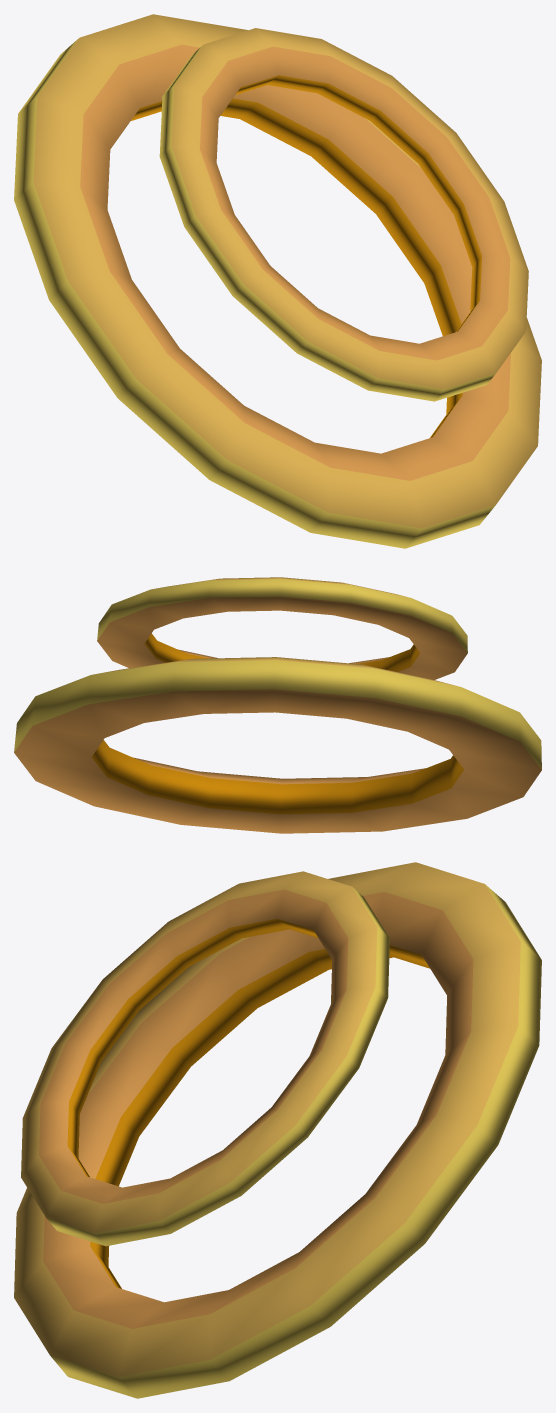
File: herbertSateliteDishRings.glb
3 renders of one model, top to bottom at view 1: azimuth 30°, elevation 25°; view 2: azimuth 150°, elevation 25°; view 3: azimuth 270°, elevation 25°, orthographic. The views are drawn at different scales.
Parts seen in each view (by area): view 1: herbertSateliteDishRings; view 2: herbertSateliteDishRings; view 3: herbertSateliteDishRings.
Boxes of the visible parts, x1,y1,x2,y2 form: herbertSateliteDishRings: (14,14,541,548); herbertSateliteDishRings: (14,577,541,833); herbertSateliteDishRings: (14,862,541,1398).
Bounding box in the file's own units: 1.04 × 0.8351 × 0.9471.
